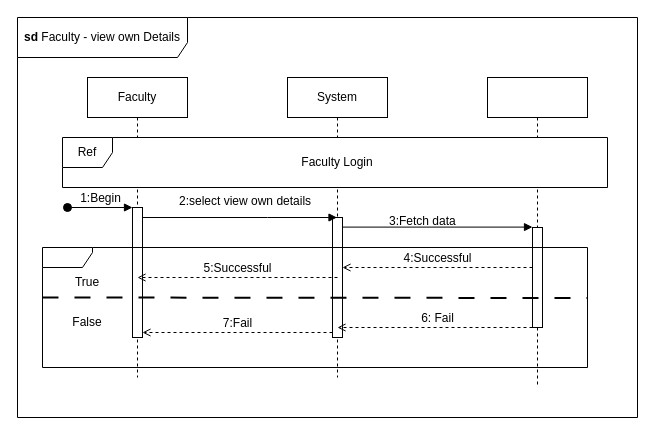
The diagram is 655 pixels wide and 435 high, and some of its shapes have lost their labels. Here are the shapes that lost their labels. From the top down, the centre of each, then its label:
At pixel 537 232: "Database".
At pixel 315 307: "alt".
